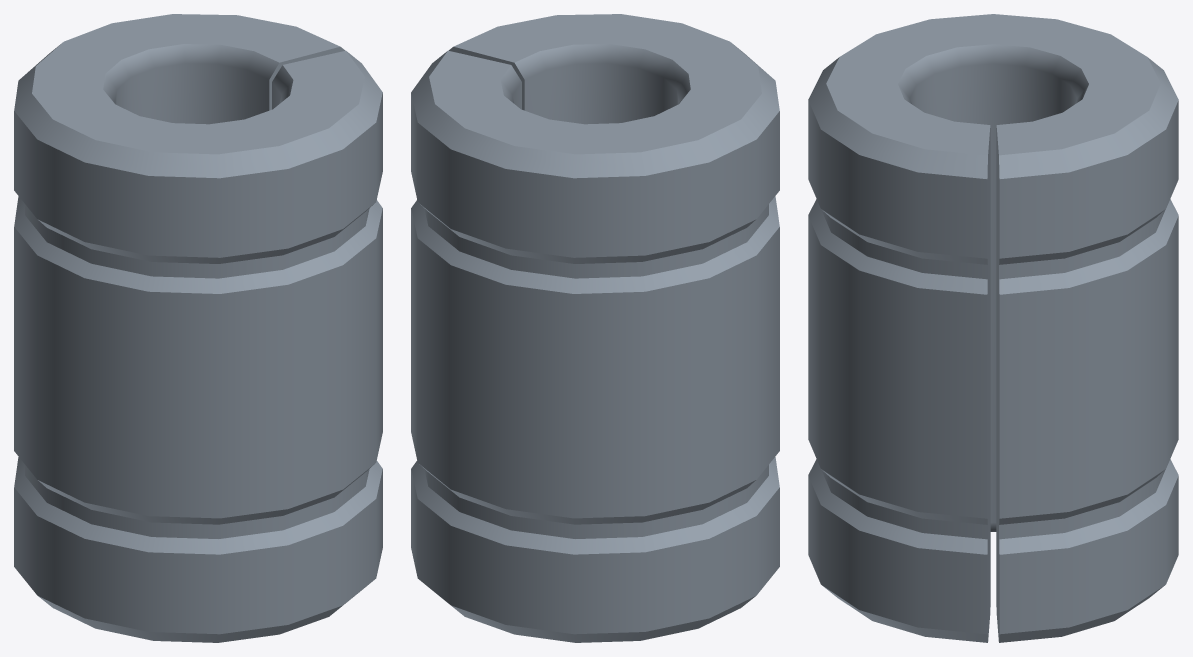
File: SM_ShaftCoupler.fbx
3 renders of one model, left to right at view 1: azimuth 30°, elevation 25°; view 2: azimuth 150°, elevation 25°; view 3: azimuth 270°, elevation 25°, orthographic.
Parts seen in each view (by area): view 1: SM_ShaftCoupler; view 2: SM_ShaftCoupler; view 3: SM_ShaftCoupler.
Boxes of the visible parts, x1,y1,x2,y2 form: SM_ShaftCoupler: (14,14,382,642); SM_ShaftCoupler: (411,14,779,642); SM_ShaftCoupler: (808,14,1178,642).
Bounding box in the file's own units: 1.86 × 1.86 × 2.7.
